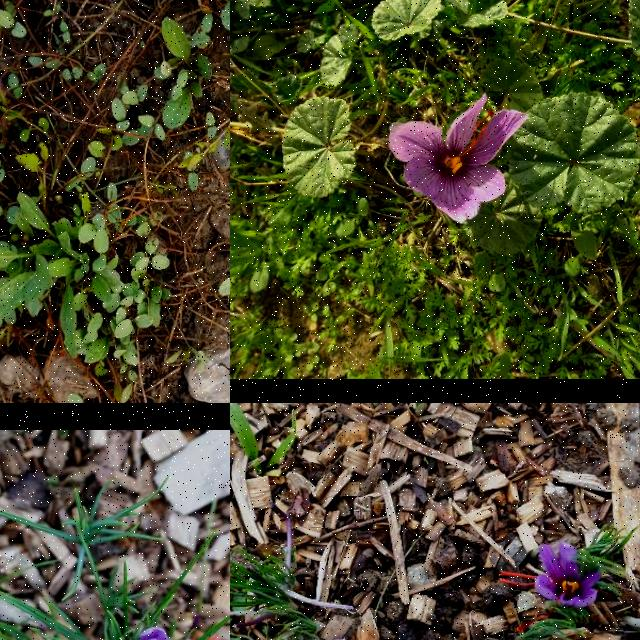flower: (388, 94, 530, 224), (499, 542, 603, 608)
